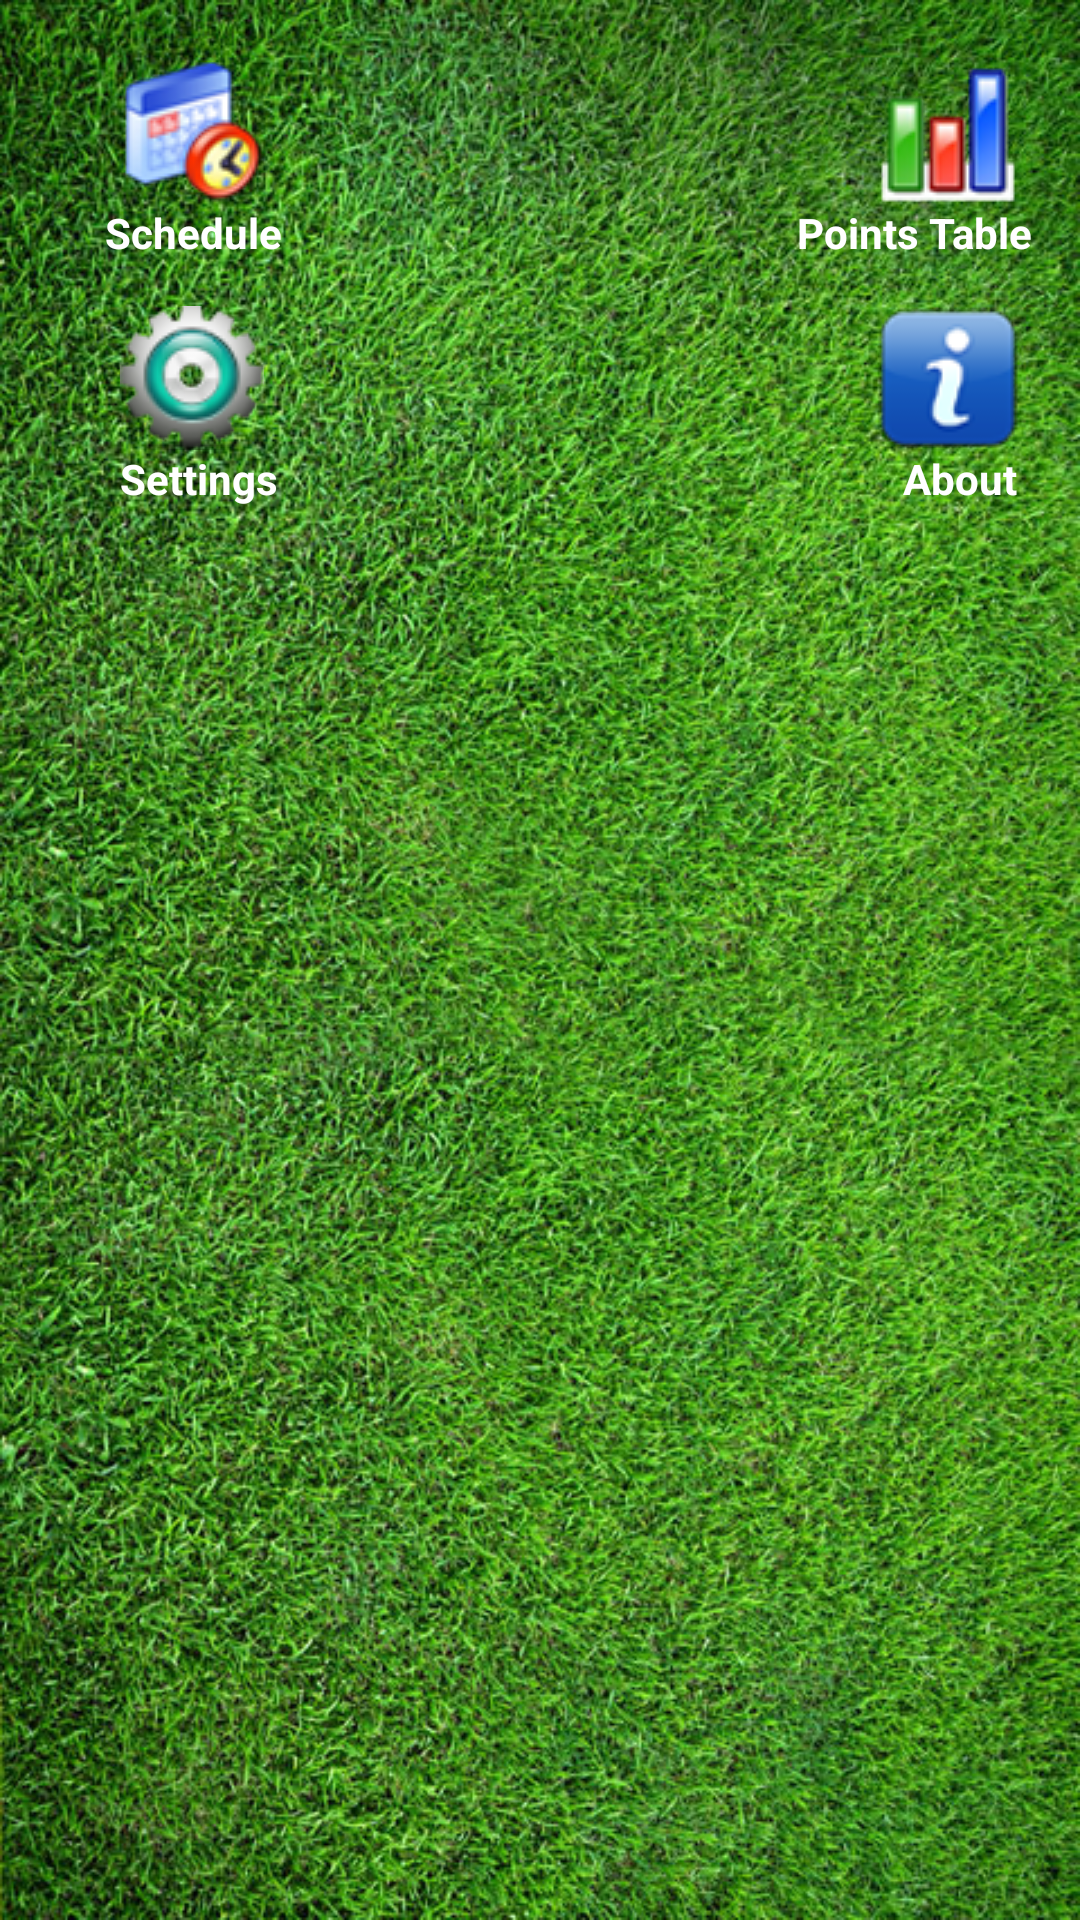

Named icons in this screenshot (1080px×1920px) and their centers, (x,y):
stats: (948,132)
